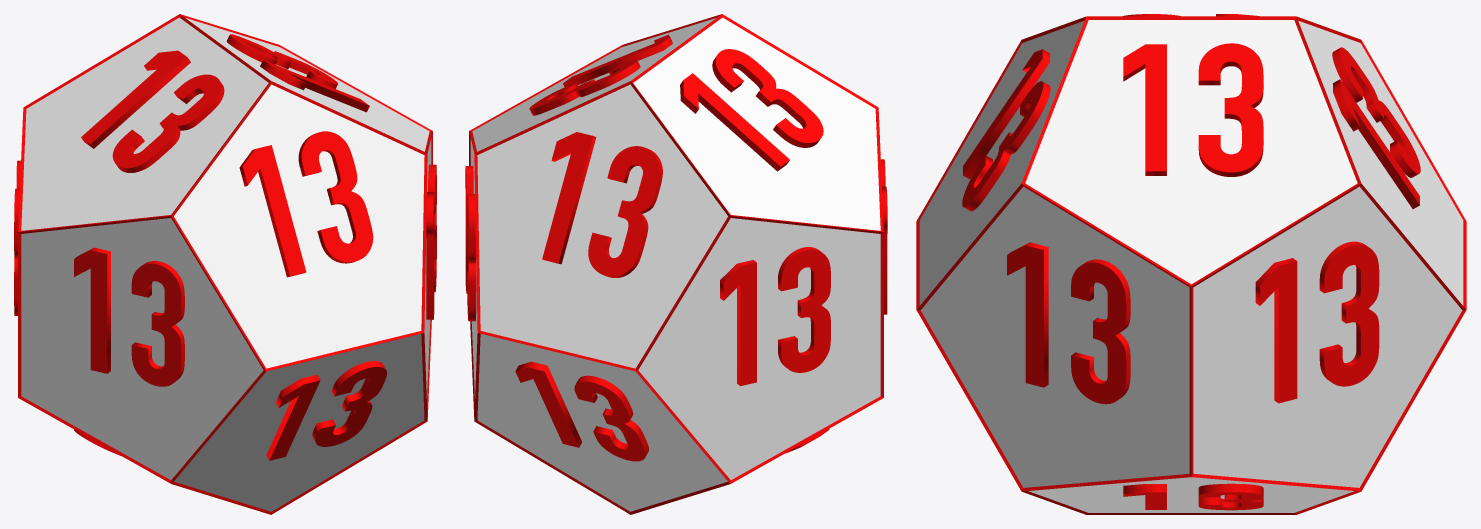
File: dodecahedron_sign-13.glb
3 renders of one model, left to right at view 1: azimuth 30°, elevation 25°; view 2: azimuth 150°, elevation 25°; view 3: azimuth 270°, elevation 25°, orthographic. The views are drawn at different scales.
Parts seen in each view (by area): view 1: Dodecahedron_Solid, Dodecahedron_Wire, Text20_5, Text20_11, Text20_7, Text20_10, Text20_2, Text20_6, Text20_8; view 2: Dodecahedron_Solid, Dodecahedron_Wire, Text20_0, Text20_8, Text20_7, Text20_3, Text20_2, Text20_1, Text20_11; view 3: Dodecahedron_Solid, Dodecahedron_Wire, Text20_1, Text20_6, Text20_2, Text20_0, Text20_5, Text20_4.
Boxes of the visible parts, x1,y1,x2,y2 form: Dodecahedron_Solid: (21, 17, 431, 511); Dodecahedron_Wire: (18, 14, 432, 514); Text20_5: (239, 131, 373, 277); Text20_11: (74, 247, 184, 386); Text20_7: (81, 50, 224, 172); Text20_10: (266, 361, 386, 460); Text20_2: (226, 34, 369, 112); Text20_6: (426, 164, 436, 319); Text20_8: (14, 160, 20, 315); Dodecahedron_Solid: (470, 17, 880, 511); Dodecahedron_Wire: (469, 14, 883, 514); Text20_0: (542, 132, 662, 277); Text20_8: (720, 247, 830, 385); Text20_7: (680, 49, 823, 171); Text20_3: (515, 361, 648, 461); Text20_2: (529, 34, 672, 115); Text20_1: (465, 166, 476, 321); Text20_11: (881, 159, 887, 314); Dodecahedron_Solid: (919, 20, 1463, 512); Dodecahedron_Wire: (916, 16, 1466, 514); Text20_1: (1255, 241, 1379, 403); Text20_6: (1007, 242, 1130, 404); Text20_2: (1123, 43, 1263, 176); Text20_0: (1332, 47, 1420, 208); Text20_5: (962, 49, 1050, 211); Text20_4: (1123, 483, 1263, 510).
Bounding box in the file's own units: 3.26 × 3.26 × 3.26.
